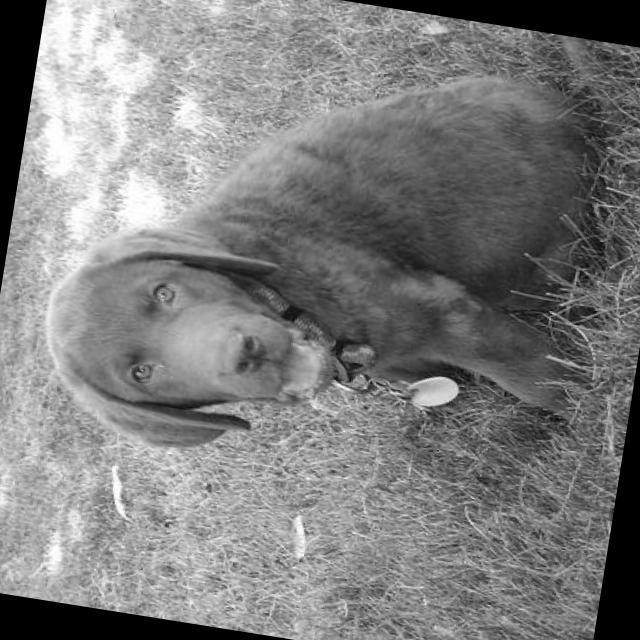sitting: (18, 0, 640, 519)
